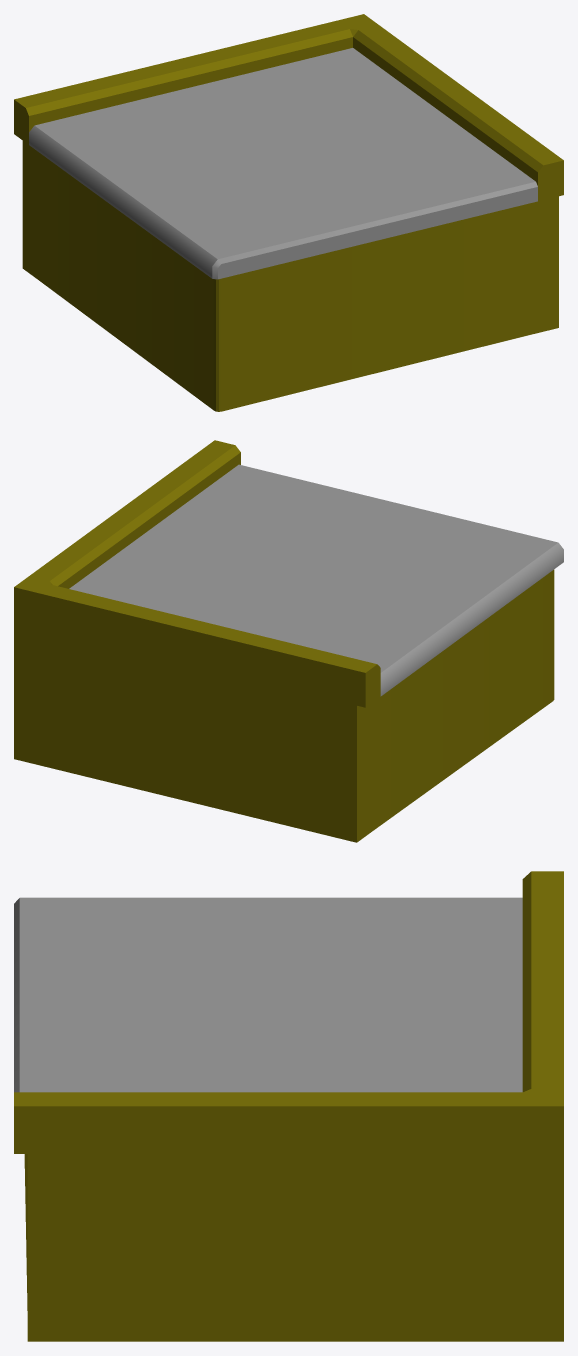
The model's file is CounterLeft_Model.FBX.
3 renders of one model, top to bottom at view 1: azimuth 30°, elevation 25°; view 2: azimuth 150°, elevation 25°; view 3: azimuth 270°, elevation 25°, orthographic. The views are drawn at different scales.
Visible parts, largest first — view 1: CounterLeft_Model; view 2: CounterLeft_Model; view 3: CounterLeft_Model.
Part boxes in pixels (left/top/right/bottom): CounterLeft_Model: left=14, top=14, right=563, bottom=411; CounterLeft_Model: left=14, top=440, right=563, bottom=842; CounterLeft_Model: left=14, top=871, right=563, bottom=1341.
Bounding box in the file's own units: 100 × 46.78 × 99.04.
